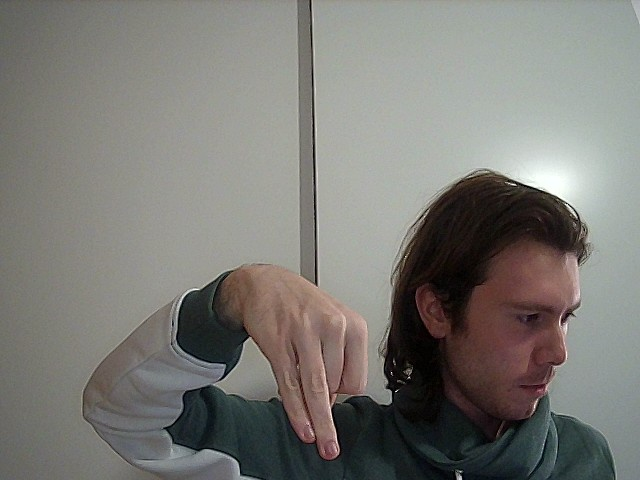n: (209, 255, 379, 468)
